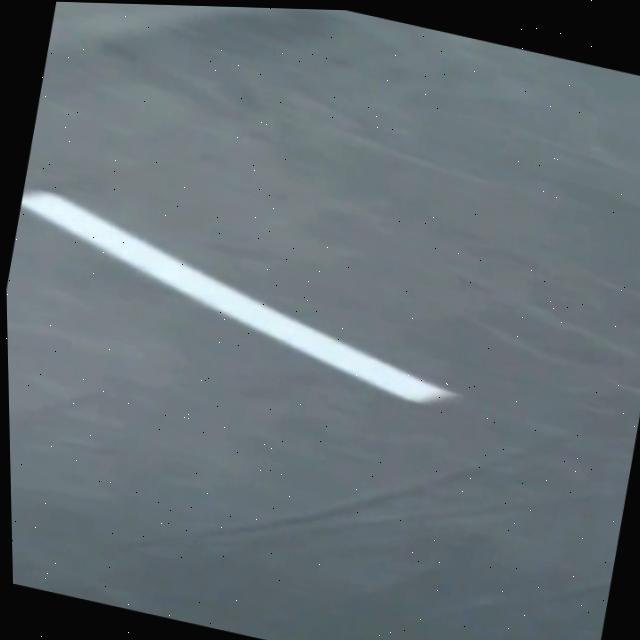center: (21, 190, 457, 401)
